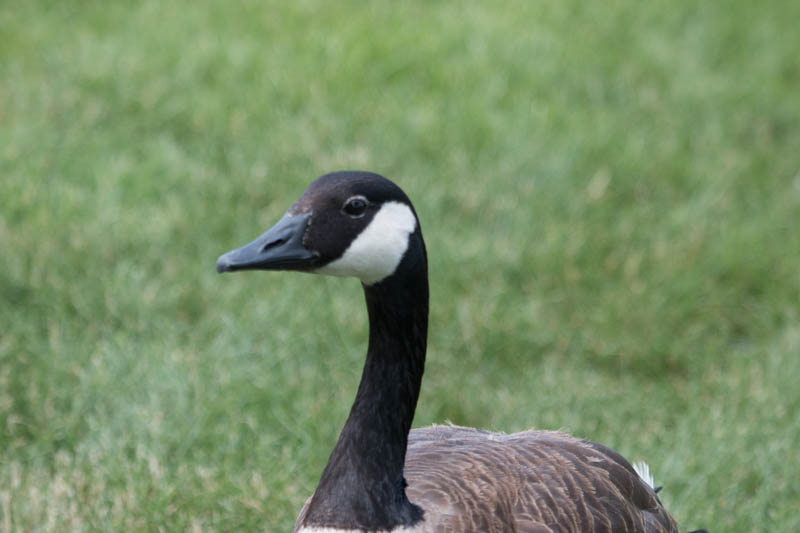goose-head: (214, 171, 430, 287)
